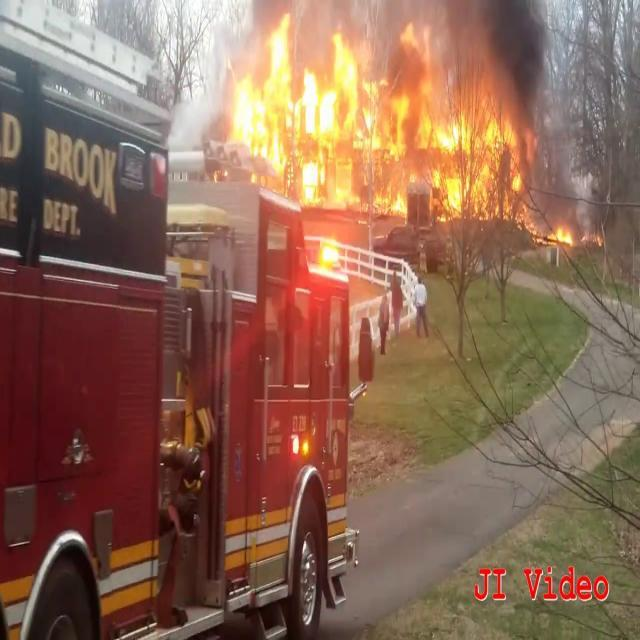Fire: (224, 4, 528, 223), (534, 215, 581, 253)
